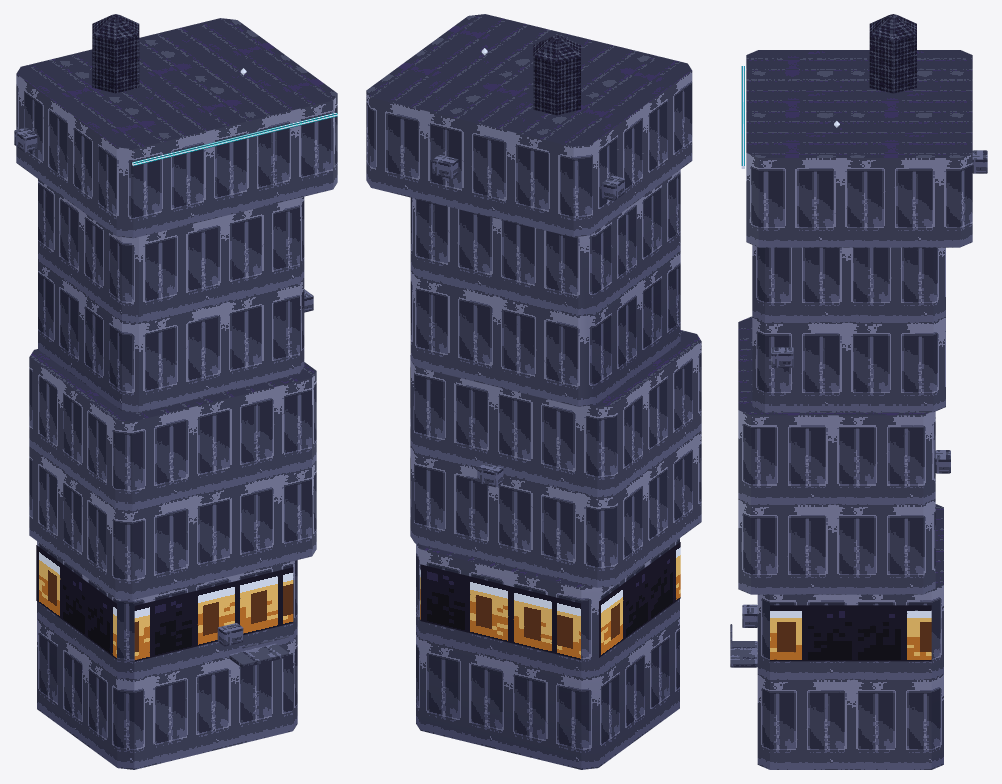
File: cytower.stack.glb
3 renders of one model, left to right at view 1: azimuth 30°, elevation 25°; view 2: azimuth 150°, elevation 25°; view 3: azimuth 270°, elevation 25°, orthographic.
Visible parts, largest first — view 1: kit_tower, kit_card_windows, kit_crown; view 2: kit_tower, kit_card_windows; view 3: kit_tower, kit_card_windows.
Boxes of the visible parts, x1,y1,x2,y2 form: kit_tower: (14,14,337,769); kit_card_windows: (36,545,293,661); kit_crown: (132,68,337,166); kit_tower: (366,14,701,769); kit_card_windows: (420,542,680,659); kit_tower: (730,14,987,769); kit_card_windows: (770,605,931,661).
Bounding box in the file's own units: 10.95 × 31 × 10.39.
Materials: 8 (8 with a texture image).
